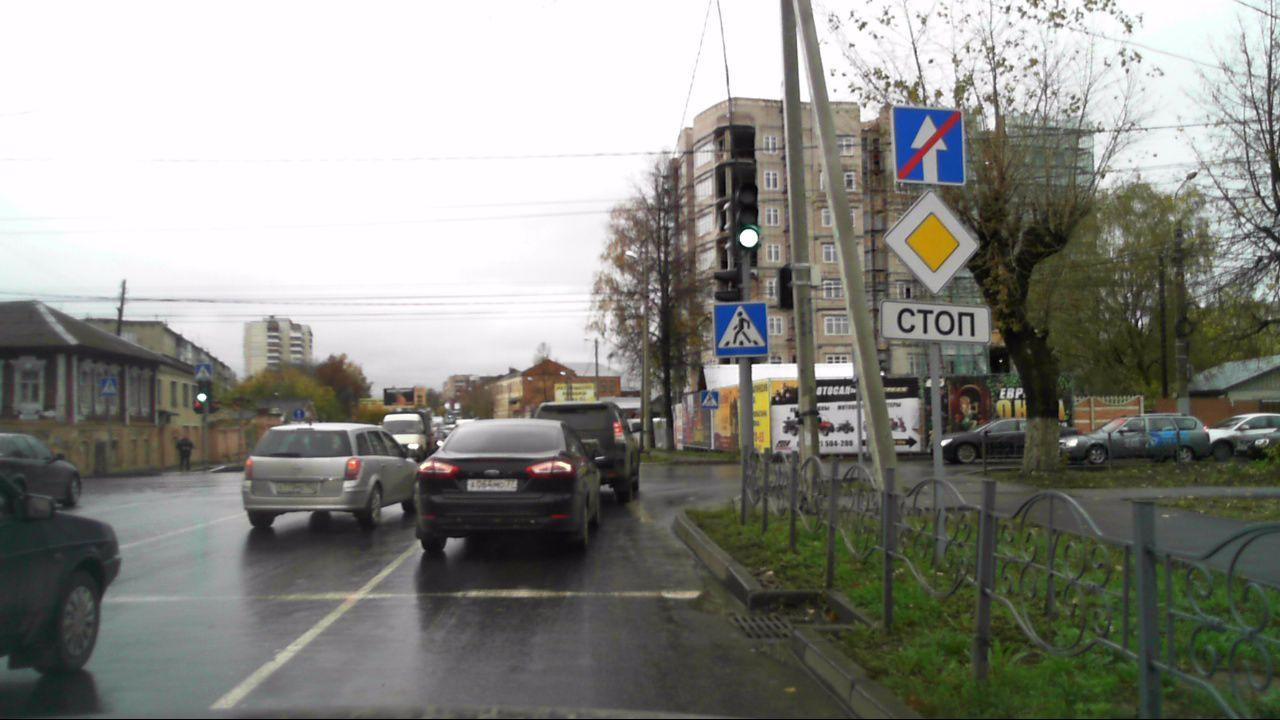2_1: (881, 190, 980, 292)
4_1_1: (294, 407, 306, 420)
5_19_1: (714, 303, 771, 358), (701, 389, 720, 409), (102, 376, 118, 397)
5_19_2: (195, 364, 211, 380)
5_6: (892, 107, 964, 185)
6_16: (882, 301, 991, 344)
